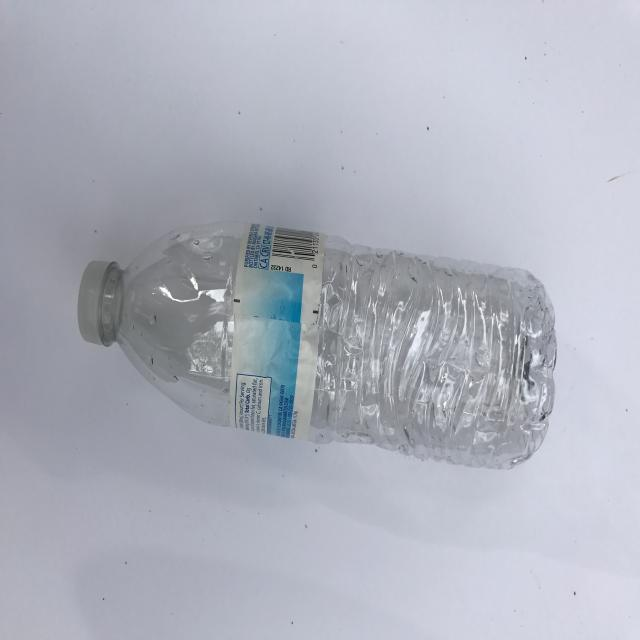plastic: (76, 222, 564, 474)
